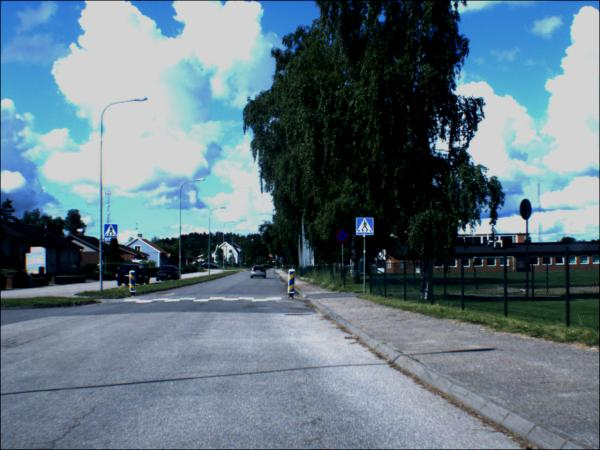NO_PARKING: (336, 229, 352, 246)
PEDESTRIAN_CROSSING: (357, 219, 376, 237), (106, 225, 120, 240)
